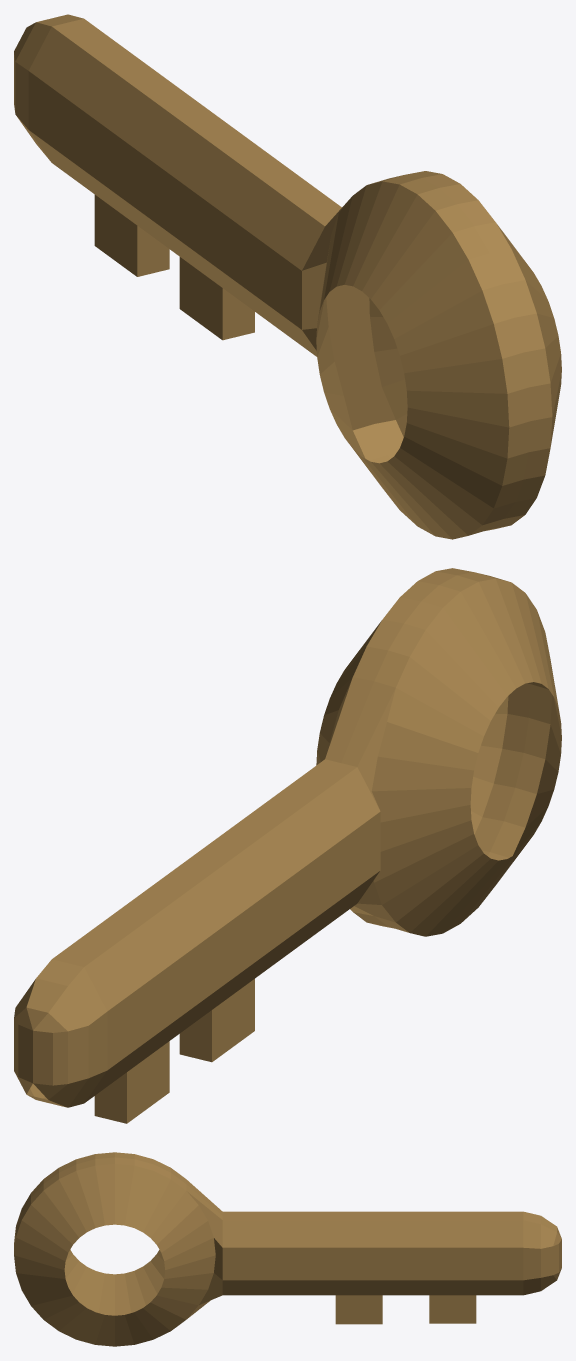
File: key (2).fbx
3 views of the same model, one above another, from view 1: azimuth 30°, elevation 25°; view 2: azimuth 150°, elevation 25°; view 3: azimuth 270°, elevation 25° (orthographic). The views are drawn at different scales.
Visible parts, largest first — view 1: Cube; view 2: Cube; view 3: Cube.
Boxes of the visible parts, bbox=[...] form: Cube: bbox=[14, 14, 561, 539]; Cube: bbox=[14, 568, 561, 1123]; Cube: bbox=[14, 1152, 561, 1346].
Bounding box in the file's own units: 97.21 × 201 × 543.
